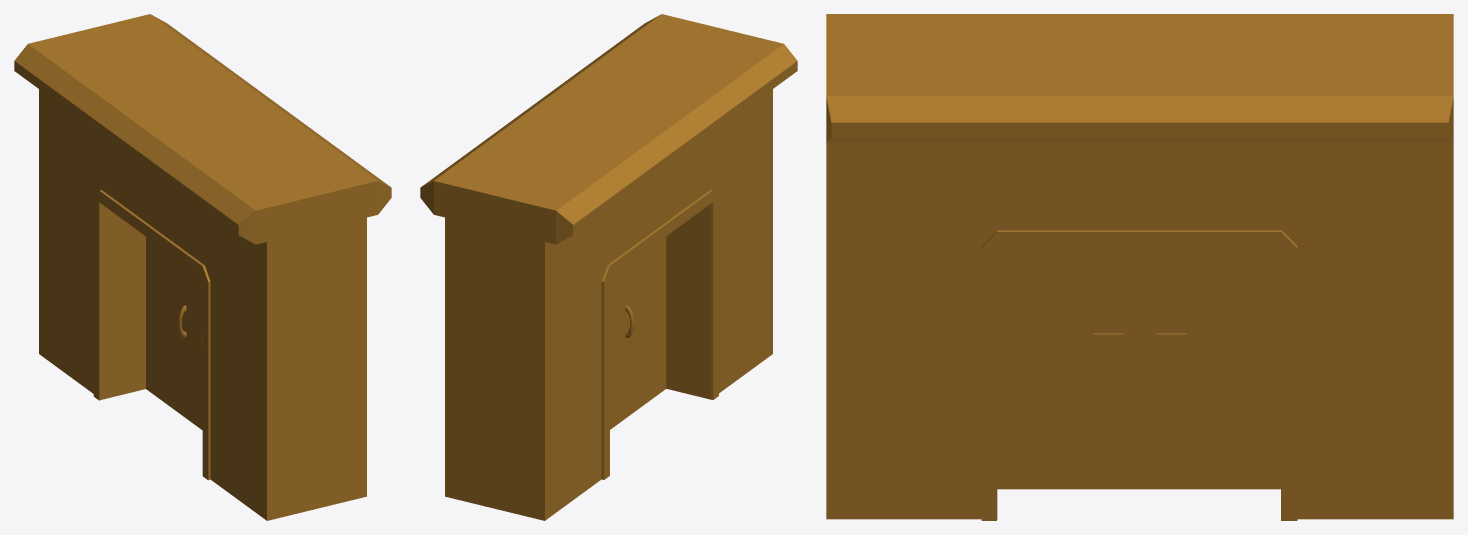
File: SmallDoor.fbx
3 renders of one model, left to right at view 1: azimuth 30°, elevation 25°; view 2: azimuth 150°, elevation 25°; view 3: azimuth 270°, elevation 25°, orthographic. The views are drawn at different scales.
Parts seen in each view (by area): view 1: SmallDoor; view 2: SmallDoor; view 3: SmallDoor.
Part boxes in pixels (x1=…): SmallDoor: x1=14, y1=14, x2=391, y2=520; SmallDoor: x1=420, y1=14, x2=797, y2=520; SmallDoor: x1=826, y1=14, x2=1453, y2=520.
Bounding box in the file's own units: 154 × 300 × 396.
